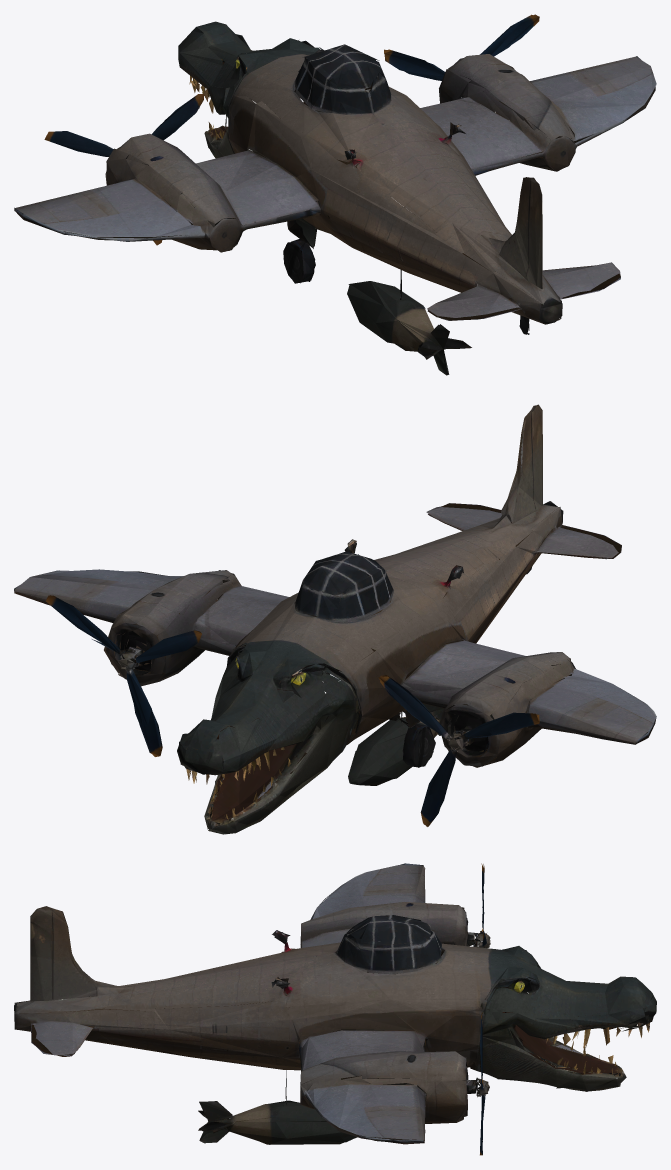
File: bombardino.fbx
The picture shows the model from 3 angles, top to bottom: view 1: azimuth 30°, elevation 25°; view 2: azimuth 150°, elevation 25°; view 3: azimuth 270°, elevation 25°; orthographic projection. The views are drawn at different scales.
Parts seen in each view (by area): view 1: Bombardino.001; view 2: Bombardino.001; view 3: Bombardino.001.
Boxes of the visible parts, x1,y1,x2,y2 form: Bombardino.001: (14,14,656,375); Bombardino.001: (14,404,656,834); Bombardino.001: (14,863,656,1155).
Size of the model in its own units: 9498 by 3815 by 9348.
